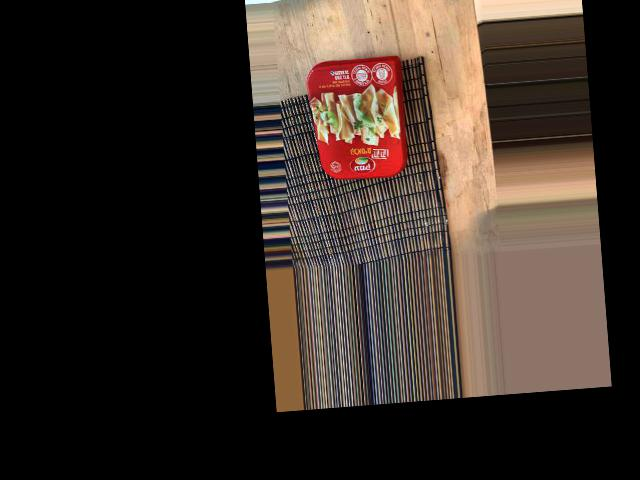cheese: (275, 141, 417, 236)
